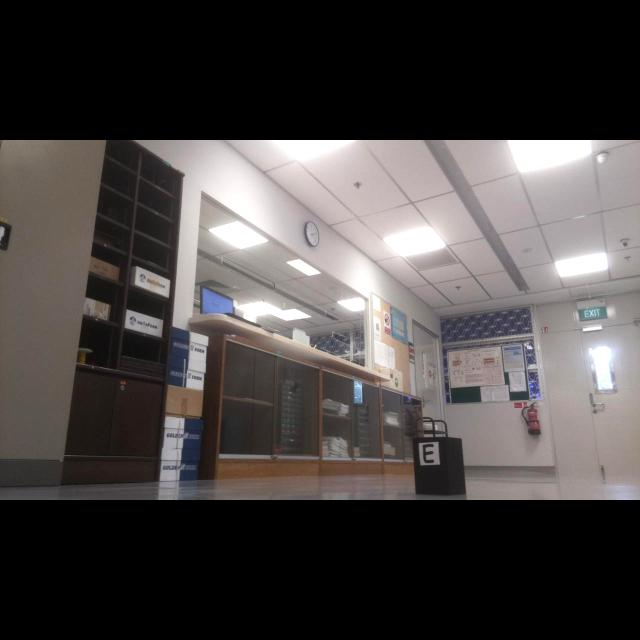E: (423, 444, 434, 463)
